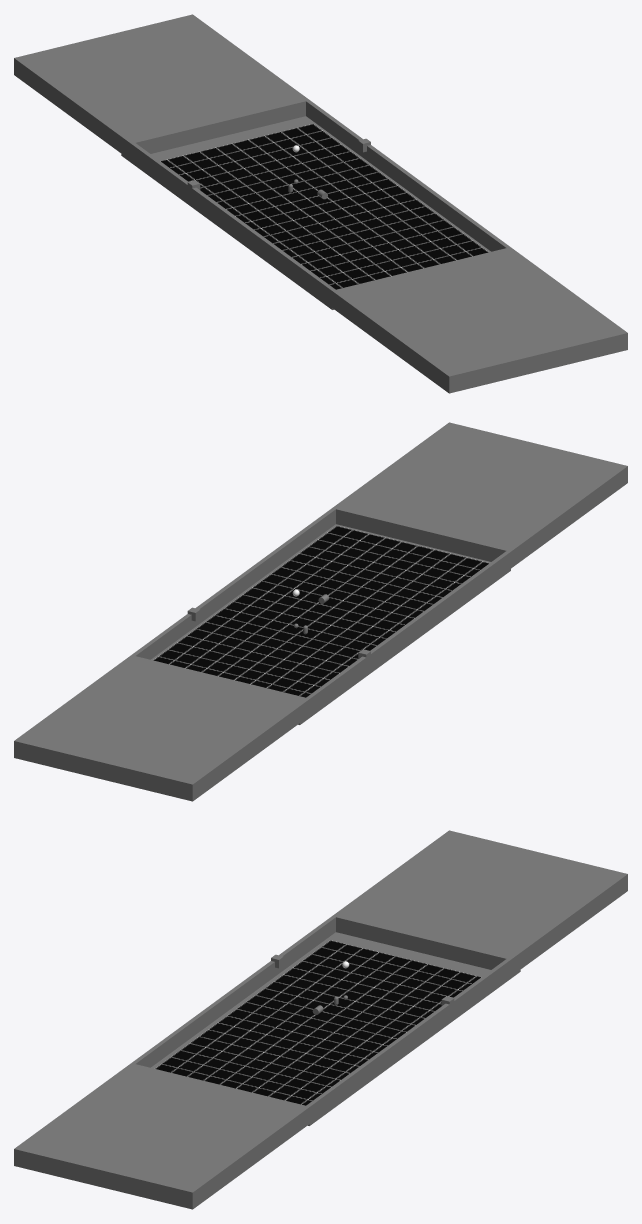
The model's file is Ship Deck.fbx.
3 renders of one model, top to bottom at view 1: azimuth 30°, elevation 25°; view 2: azimuth 150°, elevation 25°; view 3: azimuth 330°, elevation 25°, orthographic.
Visible parts, largest first — view 1: Ship_Front, Ship_Back, Ship_Side__Right_, Ship_Side__Left_, Deck_Cube; view 2: Ship_Back, Ship_Front, Ship_Side__Right_, Ship_Side__Left_, Deck_Cube; view 3: Ship_Front, Ship_Back, Ship_Side__Left_, Ship_Side__Right_, Deck_Cube.
Boxes of the visible parts, <box> form: Ship_Front: <box>332,247,627,393</box>; Ship_Back: <box>14,14,308,157</box>; Ship_Side__Right_: <box>121,137,335,306</box>; Ship_Side__Left_: <box>296,93,510,251</box>; Deck_Cube: <box>121,116,490,309</box>; Ship_Back: <box>14,655,309,801</box>; Ship_Front: <box>332,422,627,568</box>; Ship_Side__Right_: <box>297,551,510,721</box>; Ship_Side__Left_: <box>121,508,335,663</box>; Deck_Cube: <box>151,524,510,724</box>; Ship_Front: <box>14,1063,309,1209</box>; Ship_Back: <box>333,830,627,975</box>; Ship_Side__Left_: <box>306,959,517,1122</box>; Ship_Side__Right_: <box>131,909,345,1067</box>; Deck_Cube: <box>151,932,520,1125</box>.
Size of the model in its own units: 4400 by 1197 by 18550.
3 materials, 1 textured.
